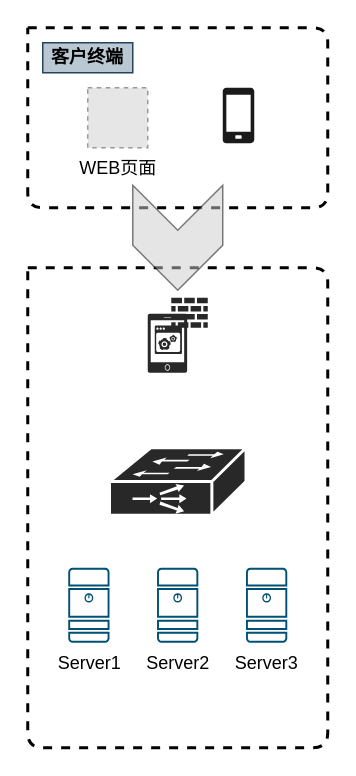
Some shapes in this 356 by 776 pixel diagram are drawn without their labels. Grey dashed boxes stand in for pictures. The shapes that lost their labels are listed below. From the top down, each one's centre as x and y in pixels, then its label:
pixel 238 114: 移动APP
pixel 177 334: WAF
pixel 177 481: SLB
